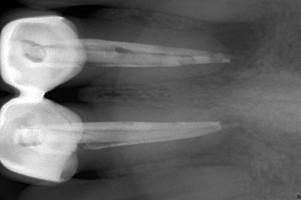Furcation Involvement: (187, 16, 277, 87)
